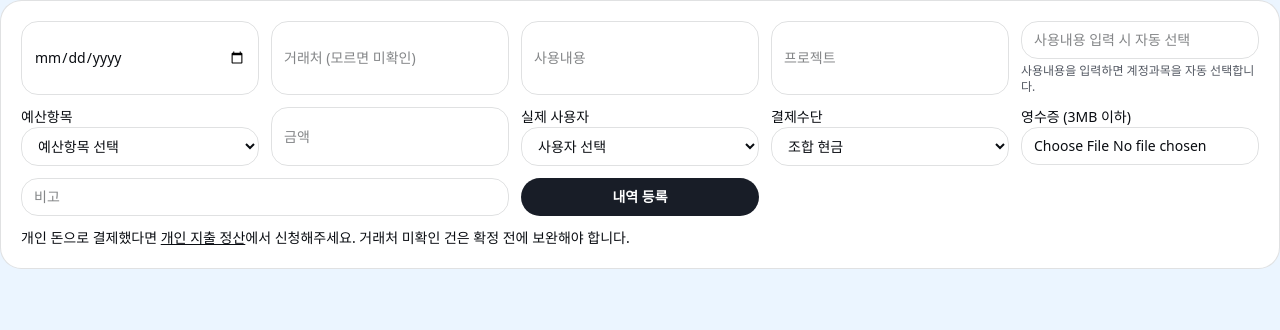
Test case: 소액결의 계정과목 자동 선택 › 등록 실패 시 사용내용·수동 계정과목과 재시도 번호를 유지한다
Type "페인트 구입" into the field labelled "사용내용" at [640, 58], box [521,21,759,95]
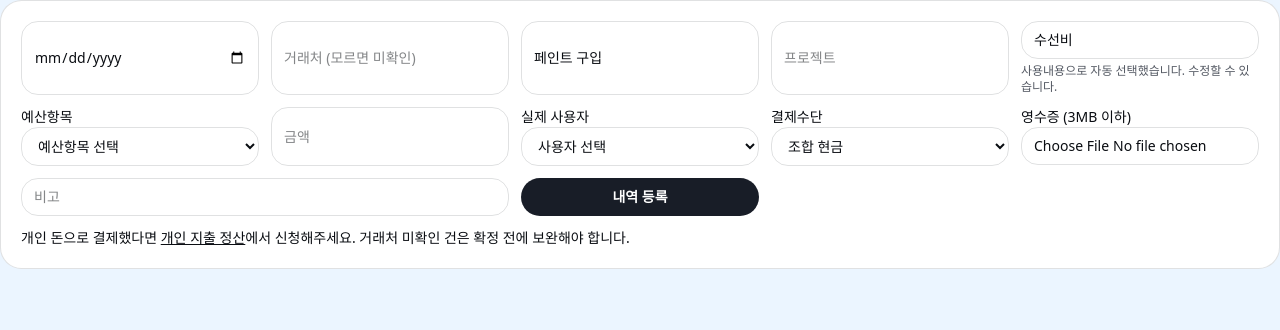
Replace the text in the field named "계정과목" with "소모품비" at [1140, 40], box [1021,21,1259,59]
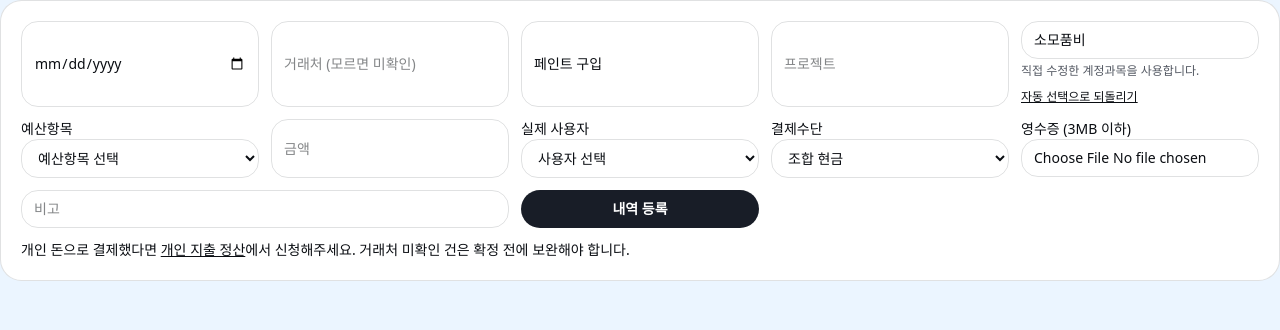
Submit the form named "사용내용"
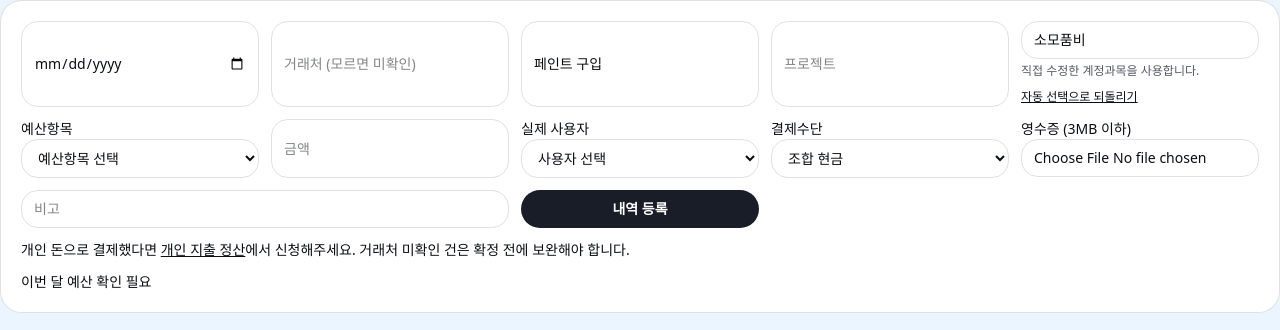
Check: the message "이번 달 예산 확인 필요" is shown, box [21,272,152,291]
